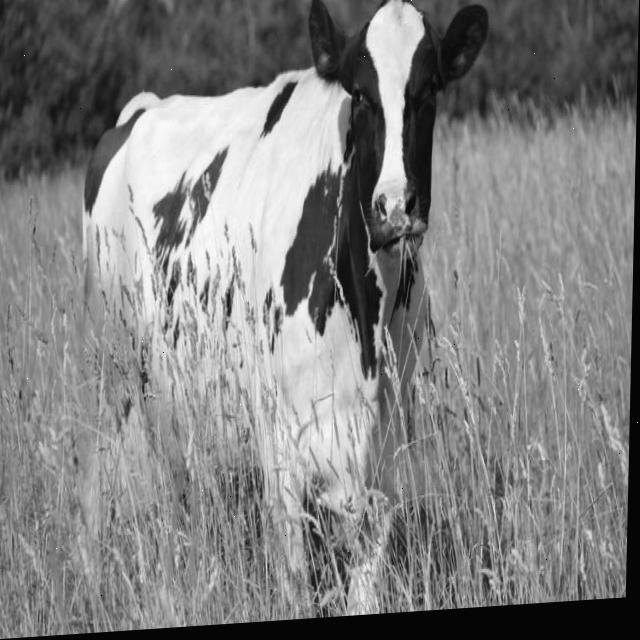Cow: (69, 0, 491, 630)
